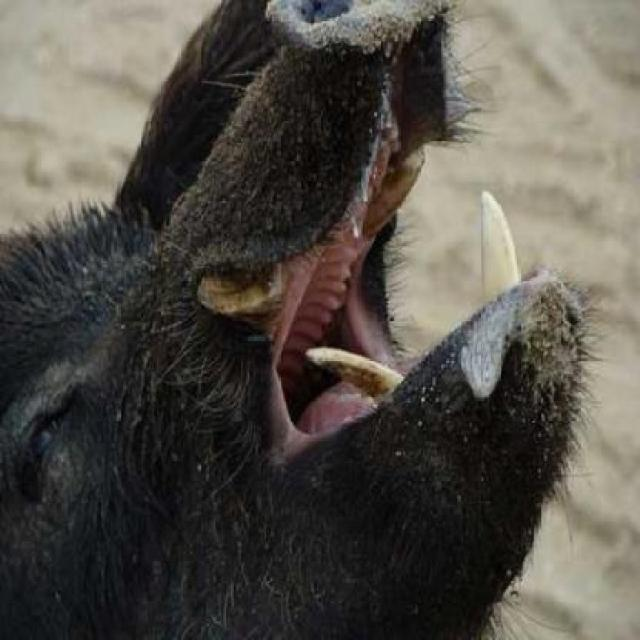pig: (1, 0, 635, 612)
